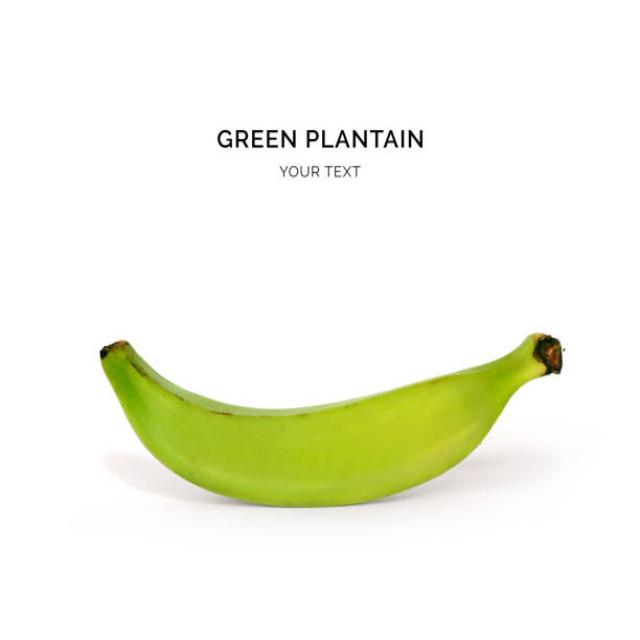banana: (99, 332, 563, 507)
